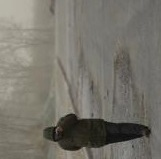person: (42, 114, 151, 151)
